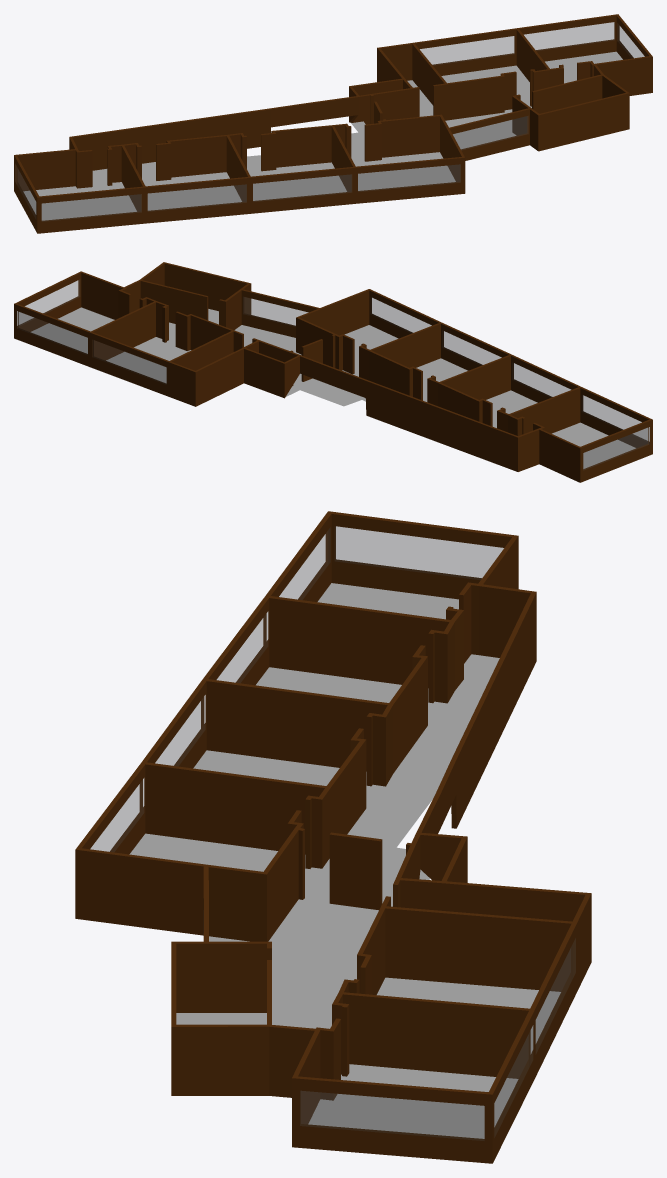
3 renders of one model, top to bottom at view 1: azimuth 30°, elevation 25°; view 2: azimuth 150°, elevation 25°; view 3: azimuth 270°, elevation 25°, orthographic. The views are drawn at different scales.
Parts seen in each view (by area): view 1: Plane.032, Plane.020; view 2: Plane.032, Plane.020; view 3: Plane.032, Plane.020.
Part boxes in pixels (x1,y1,x2,y2): Plane.032: [14, 14, 652, 233]; Plane.020: [23, 51, 622, 220]; Plane.032: [14, 262, 652, 482]; Plane.020: [31, 307, 635, 468]; Plane.032: [75, 511, 591, 1163]; Plane.020: [129, 583, 560, 1138].
Size of the model in its own units: 54.29 by 3 by 20.3.
